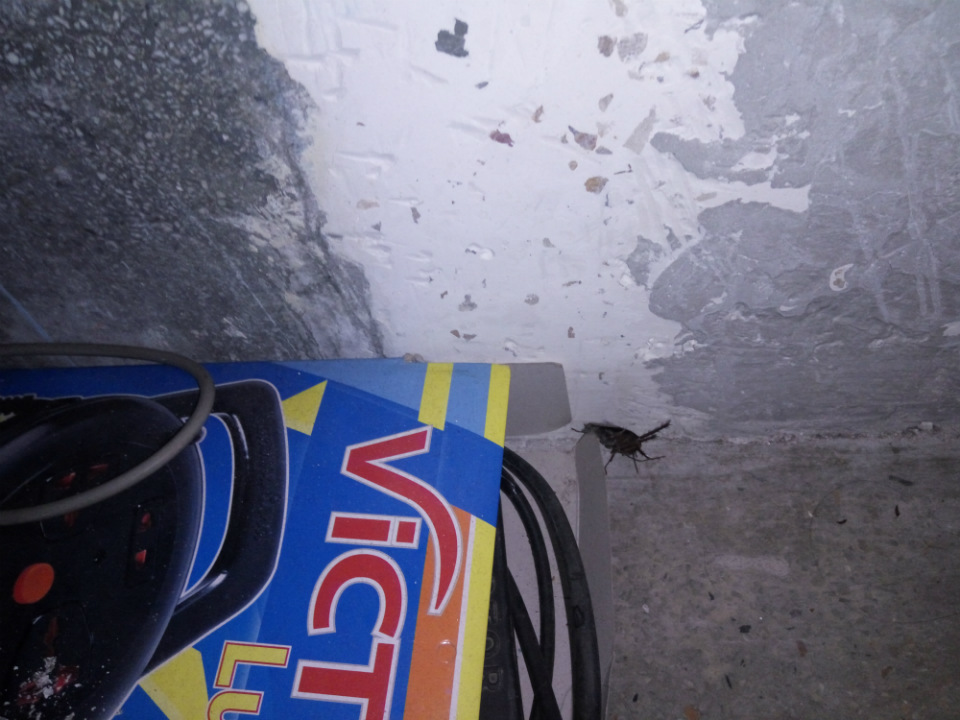cockroach: (538, 328, 706, 495)
